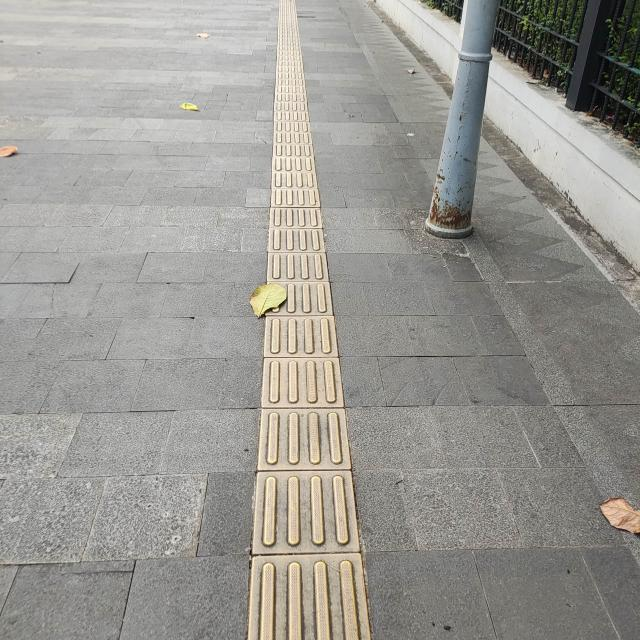lurus: (232, 9, 369, 640)
